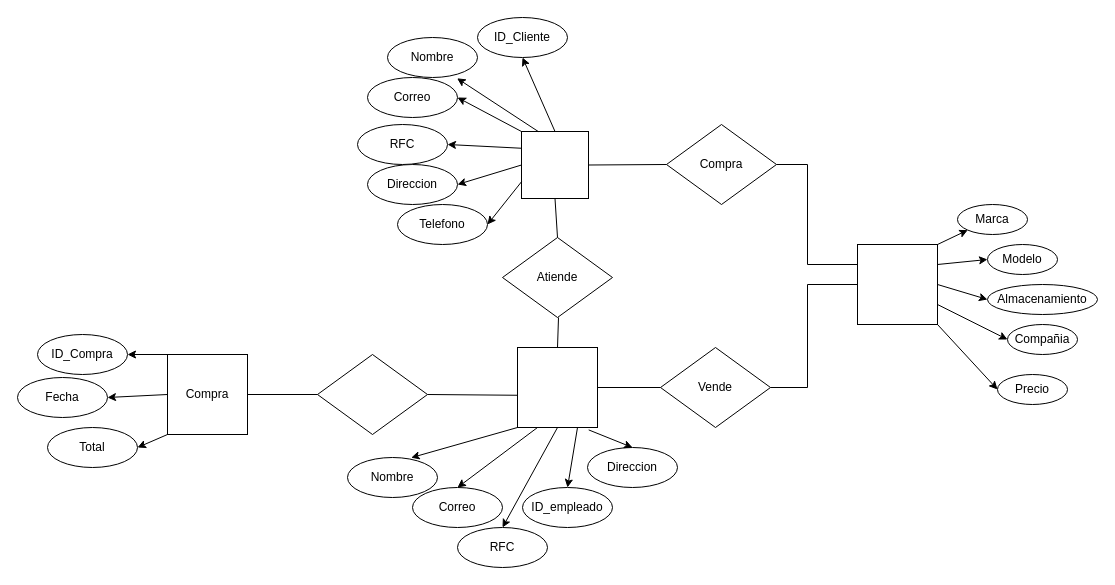
Image size: 1115x585. Some labels were removed from this diagram. The box of each missing label's shape, as (x1, y1, x2, y2) in pixels:
Celular: (856, 244, 938, 324)
Cliente: (520, 130, 588, 198)
Empleado: (516, 346, 598, 428)
Registra: (316, 354, 428, 434)
